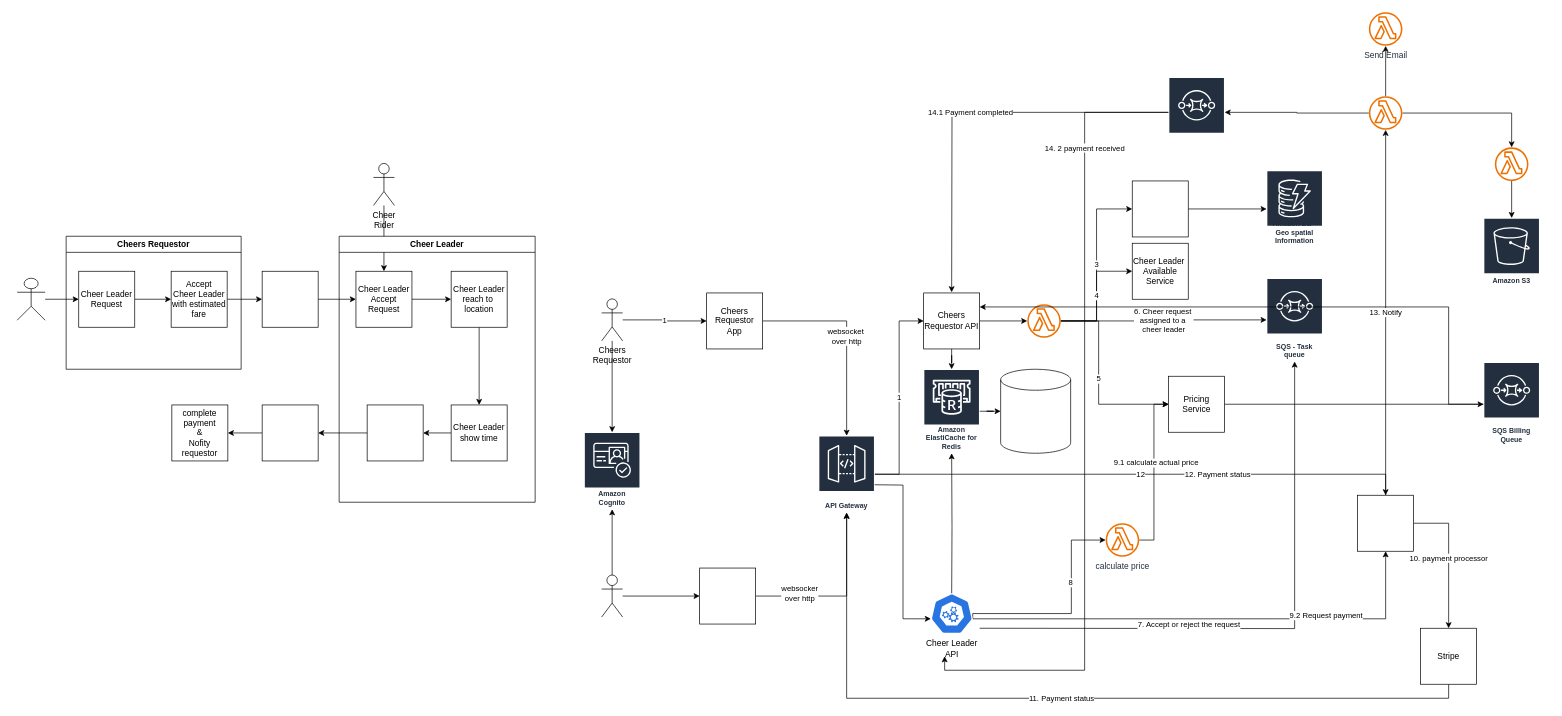
This 1562x716 diagram has some shape labels left out. Here are the shapes that lost their labels. From the top down, the centre of each, then its label:
pixel 1196 112: Amazon SQS
pixel 1385 113: Notification Service
pixel 1511 164: Generate invoice pdf
pixel 1160 208: Location Service
pixel 30 299: Cheer Requestor
pixel 289 299: Notify Cheer Leader estimated fare
pixel 1043 320: Find Cheer Leader
pixel 1035 411: TripId |- Req Id |- Leader Id
pixel 289 432: Calculate actual Payment
pixel 394 432: Cheer Leader Trip Complete
pixel 1385 523: Billing Service
pixel 612 595: Speedy Cheers
pixel 727 595: Cheer Leader App
